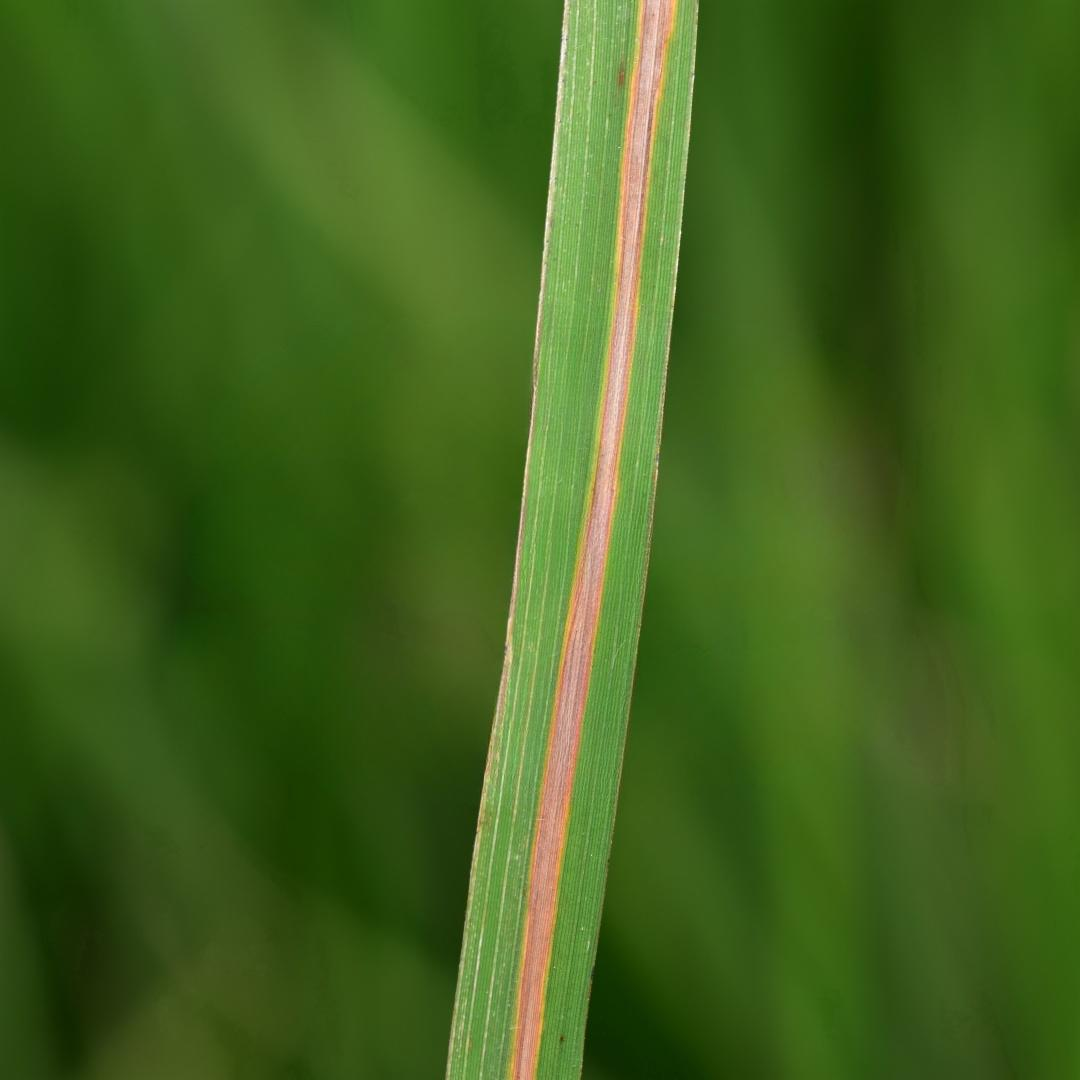BLB: (508, 0, 675, 1079)
